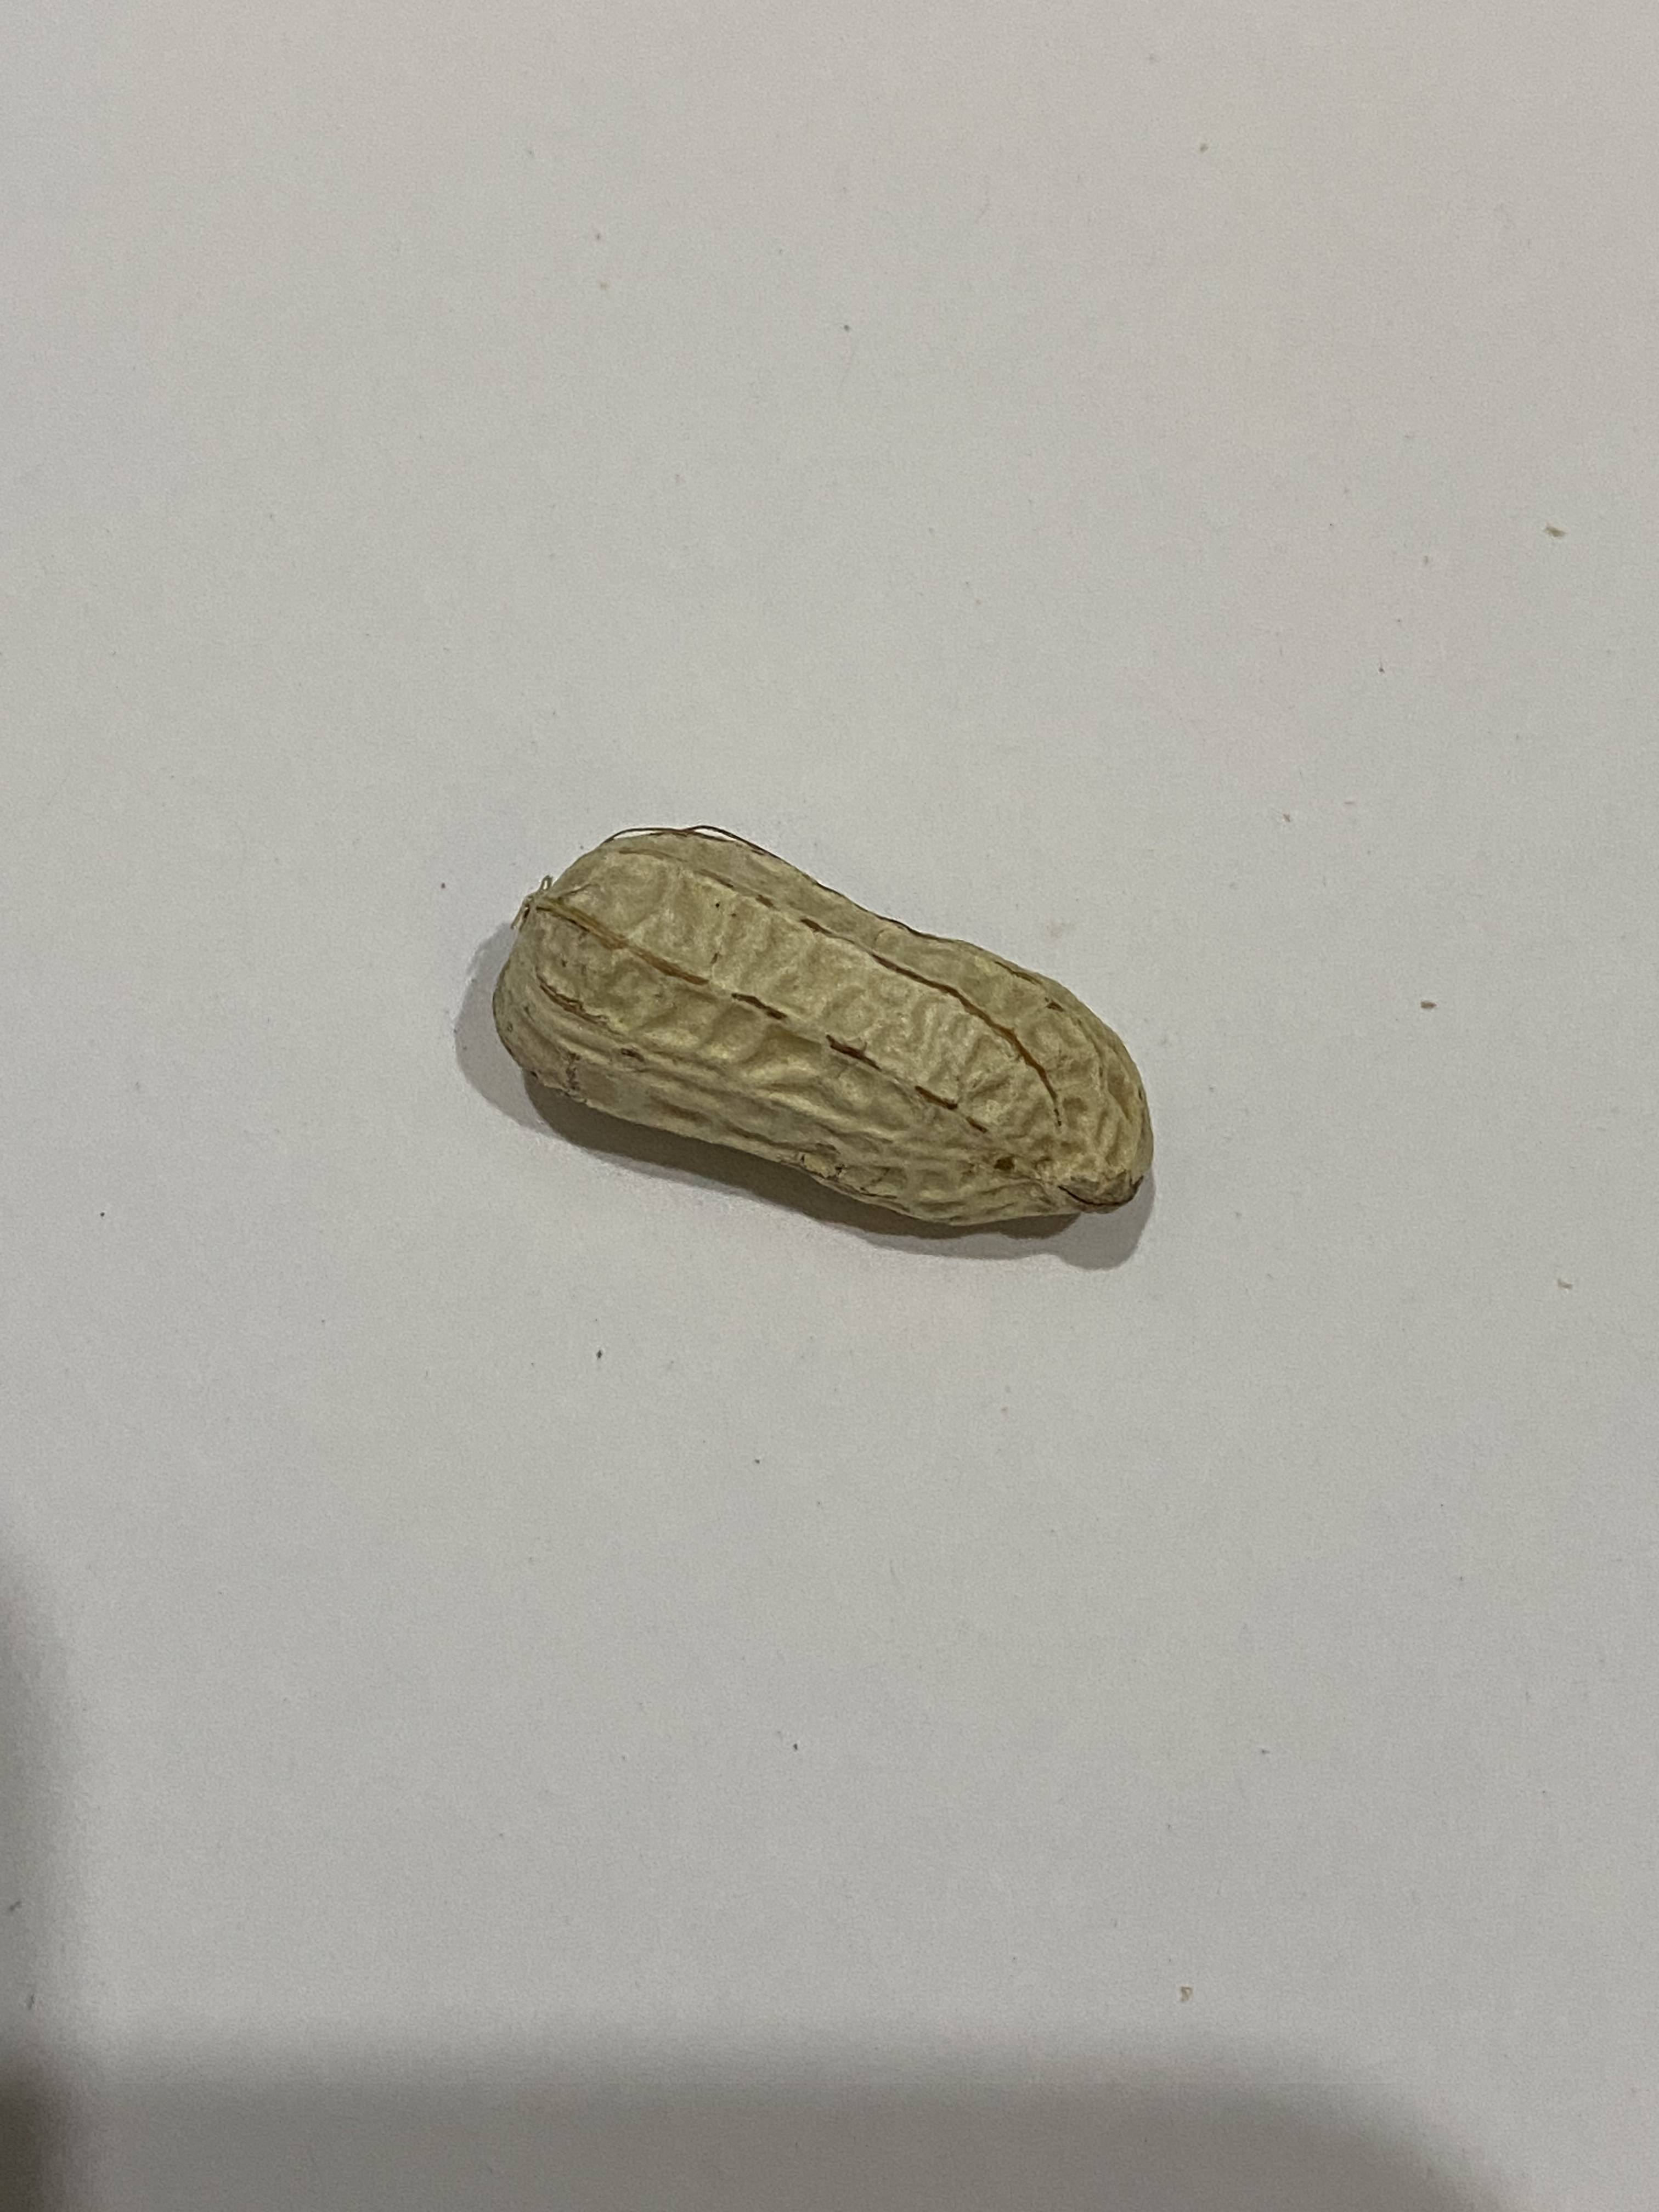kacang2: (467, 808, 1194, 1251)
